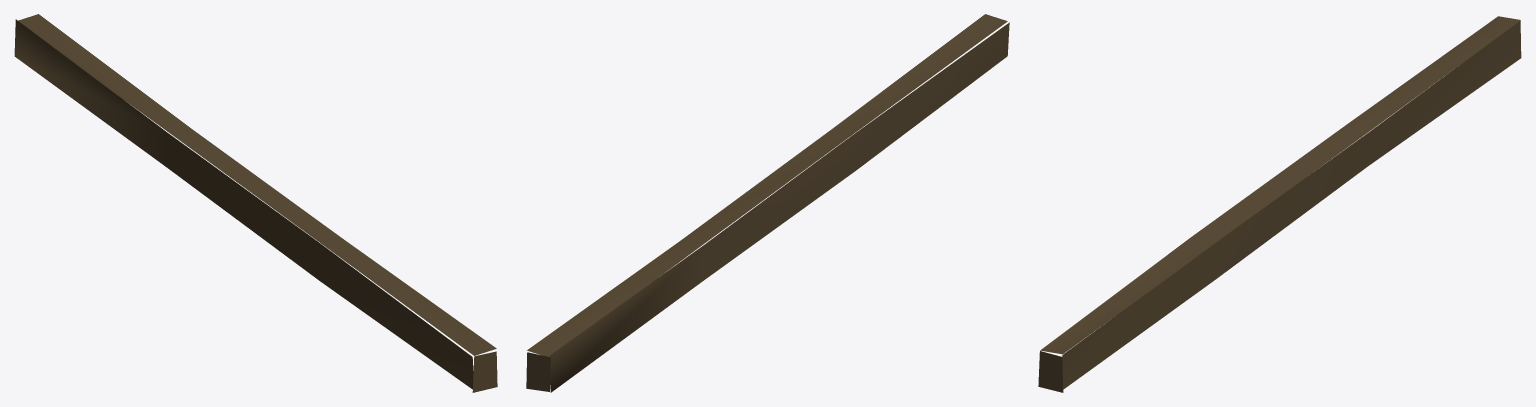
The model's file is fence-rail.glb.
3 renders of one model, left to right at view 1: azimuth 30°, elevation 25°; view 2: azimuth 150°, elevation 25°; view 3: azimuth 330°, elevation 25°, orthographic.
Parts seen in each view (by area): view 1: 울타리.가로대; view 2: 울타리.가로대; view 3: 울타리.가로대.
Boxes of the visible parts, x1,y1,x2,y2 form: 울타리.가로대: (14,14,497,392); 울타리.가로대: (526,14,1009,392); 울타리.가로대: (1038,16,1521,392).
Bounding box in the file's own units: 0.0541 × 0.0815 × 1.72.
